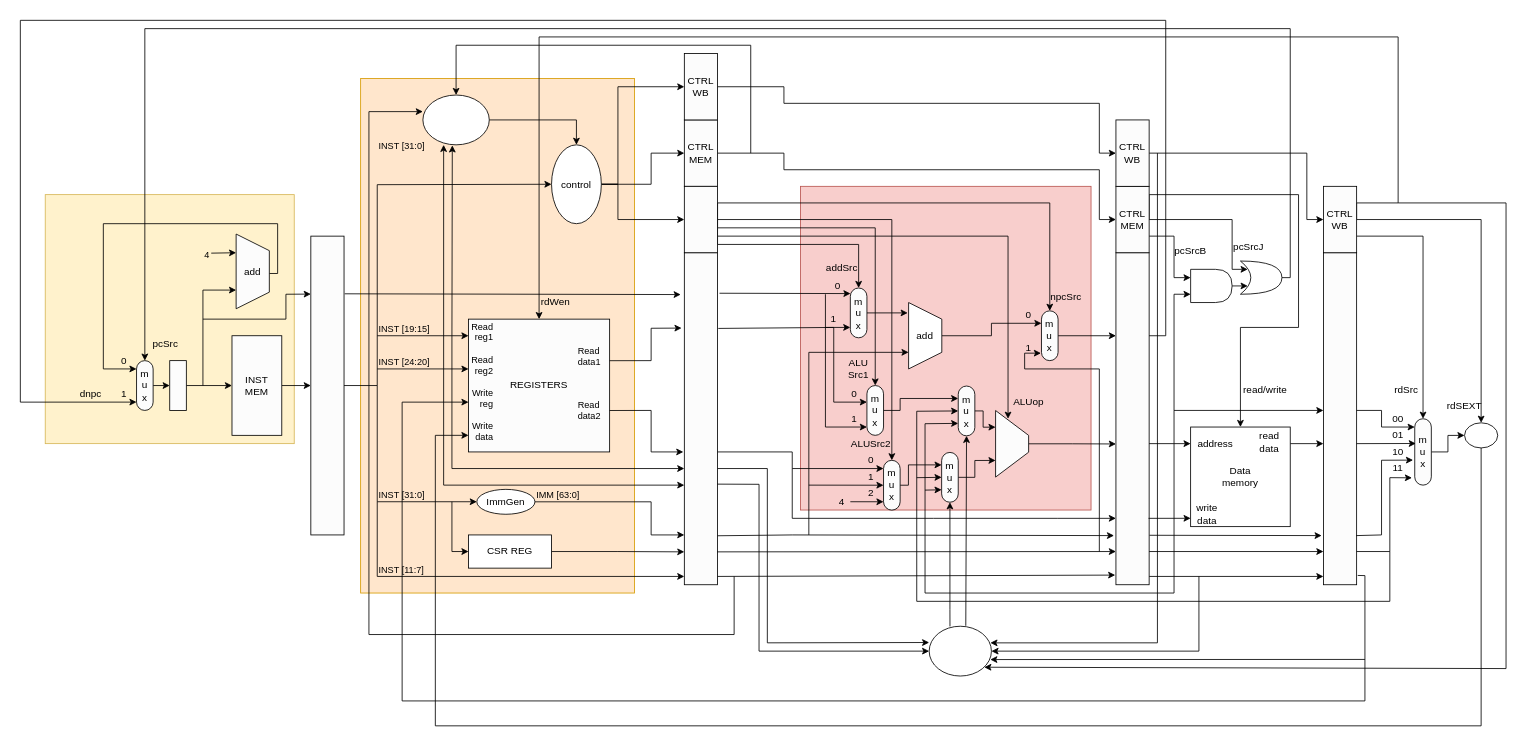
This 1527x747 diagram has some shape labels left out. The centre of each missing label's shape, as x and y in pixels:
ALU: (1012,443)
CTRL EX: (701,219)
EX/ MEM: (1132,418)
Forwarding: (959,650)
hazard detect: (455,119)
ID/EX: (701,418)
IF/ID: (327,385)
MEM /WB: (1340,418)
pc: (177,385)
SEXT: (1481,435)
